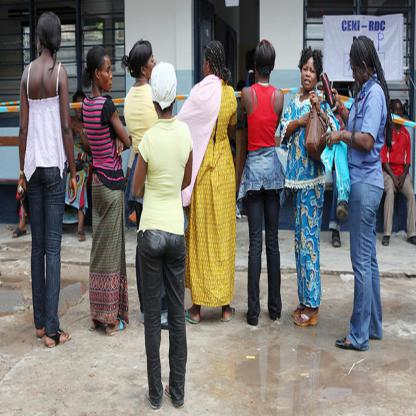face: (101, 50, 113, 92), (303, 59, 317, 89), (351, 60, 363, 87), (148, 48, 158, 78), (73, 97, 84, 118), (394, 102, 404, 123), (203, 53, 211, 78)
